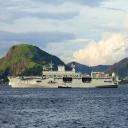Portanaves: (7, 59, 121, 90)
